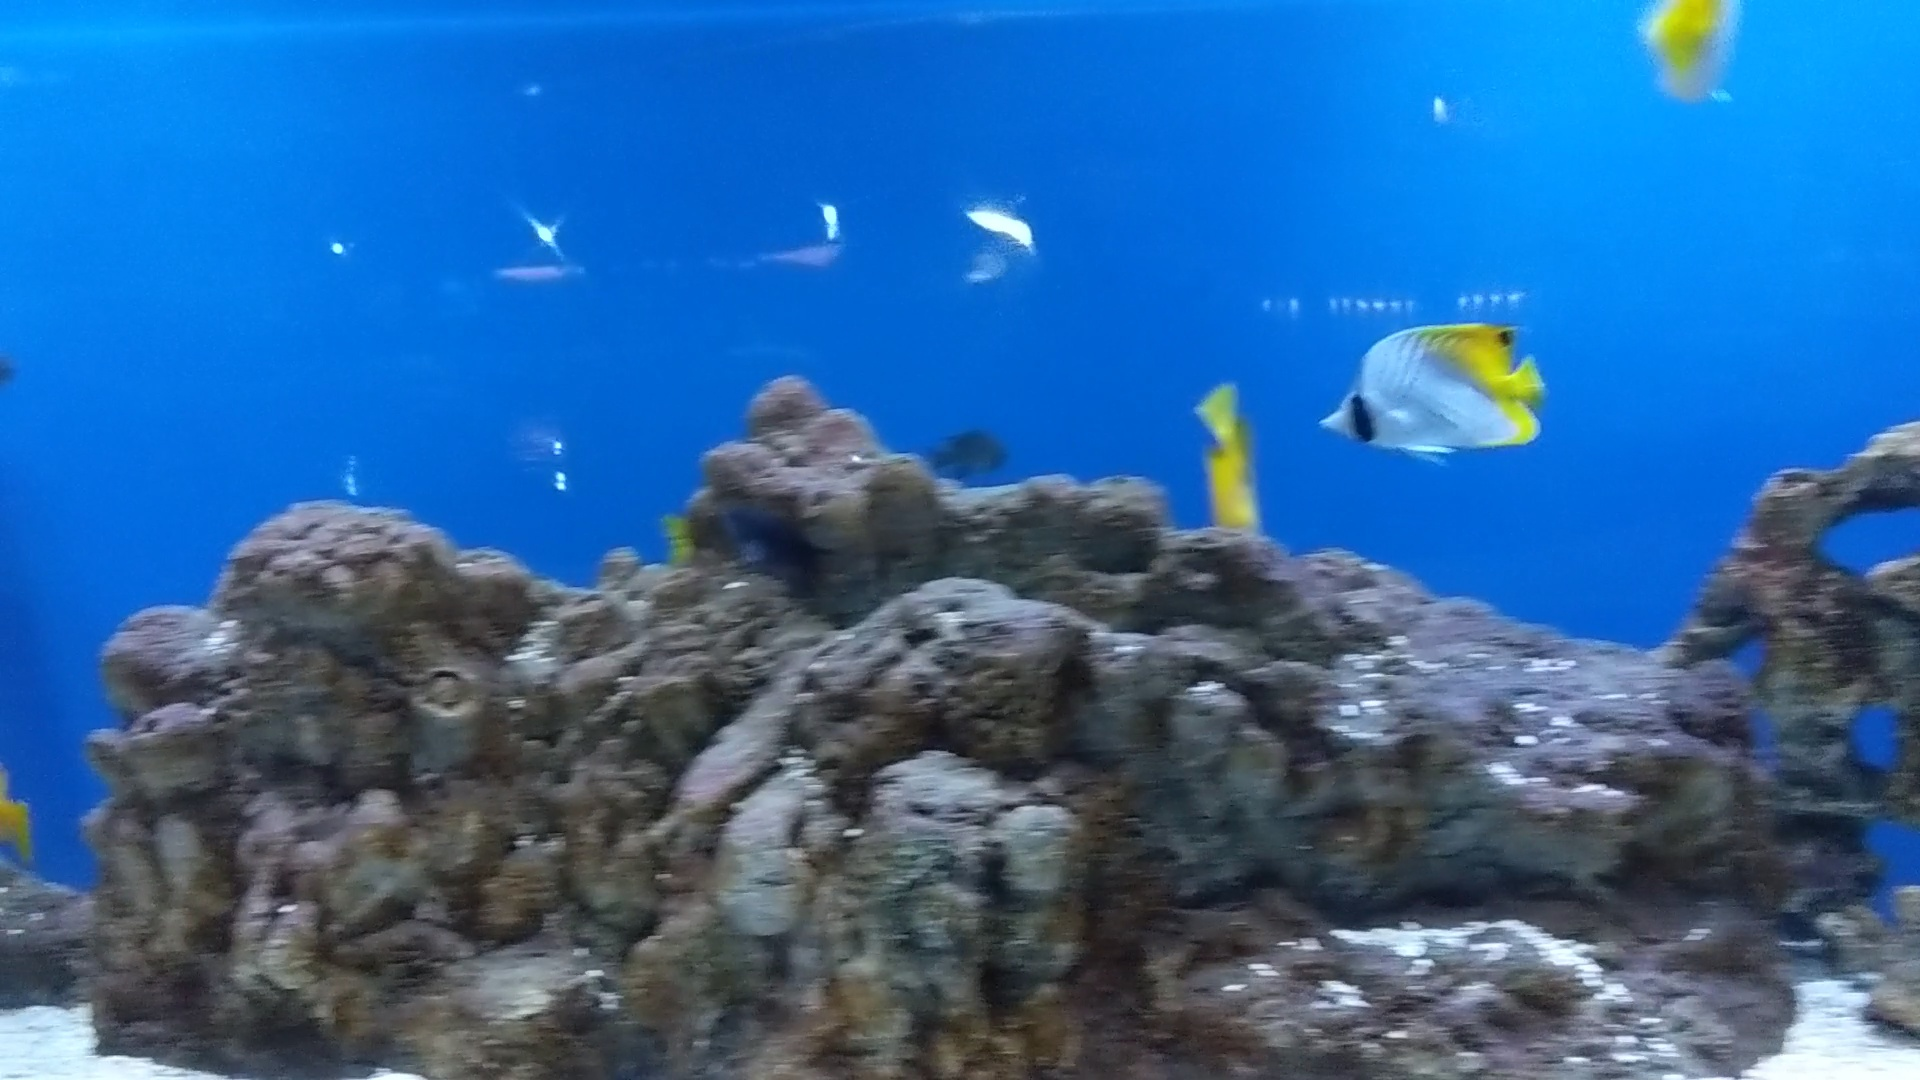butterflyfish: (1311, 313, 1540, 448)
